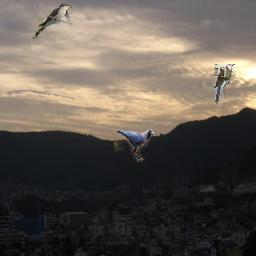Crow: (114, 129, 154, 162)
Cuckoo: (32, 3, 72, 39), (214, 64, 235, 104)
